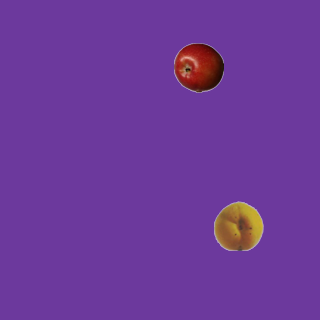Apple Braeburn: (173, 42, 223, 92)
Peach 2: (213, 200, 263, 250)
